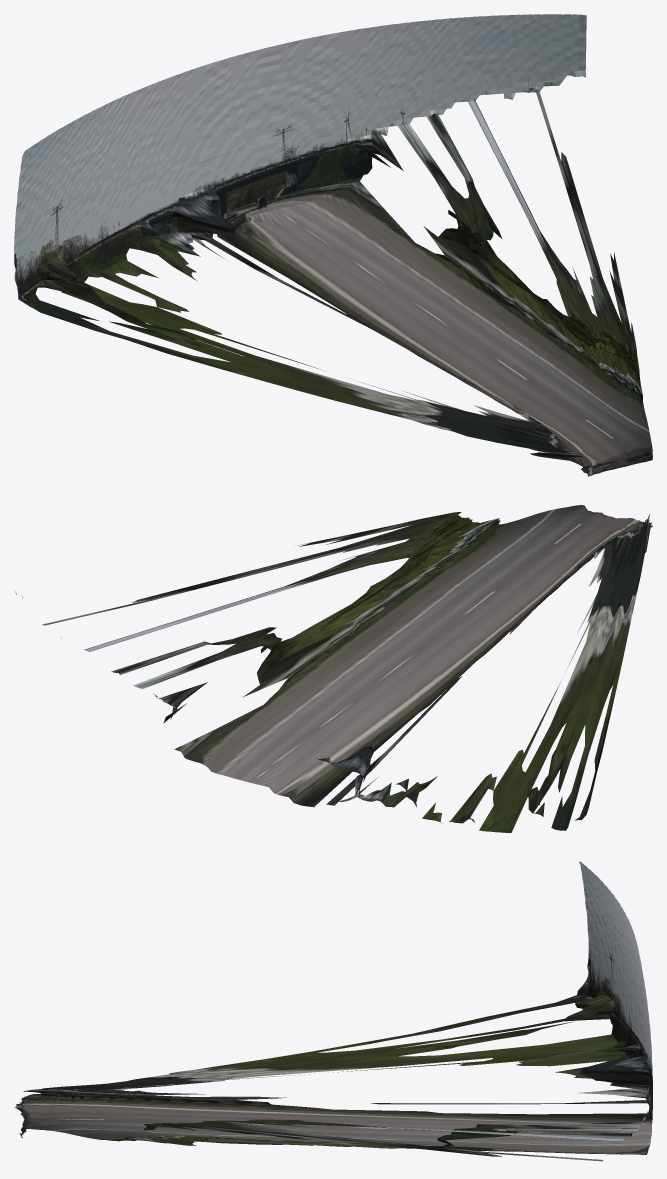
3 views of the same model, one above another, from view 1: azimuth 30°, elevation 25°; view 2: azimuth 150°, elevation 25°; view 3: azimuth 270°, elevation 25° (orthographic). The views are drawn at different scales.
Parts seen in each view (by area): view 1: defaultobject; view 2: defaultobject; view 3: defaultobject.
Boxes of the visible parts, x1,y1,x2,y2 form: defaultobject: (14,14,652,476); defaultobject: (15,505,652,832); defaultobject: (14,861,652,1161).
Size of the model in its own units: 41.06 by 12.58 by 44.66.
1 material, 1 textured.
